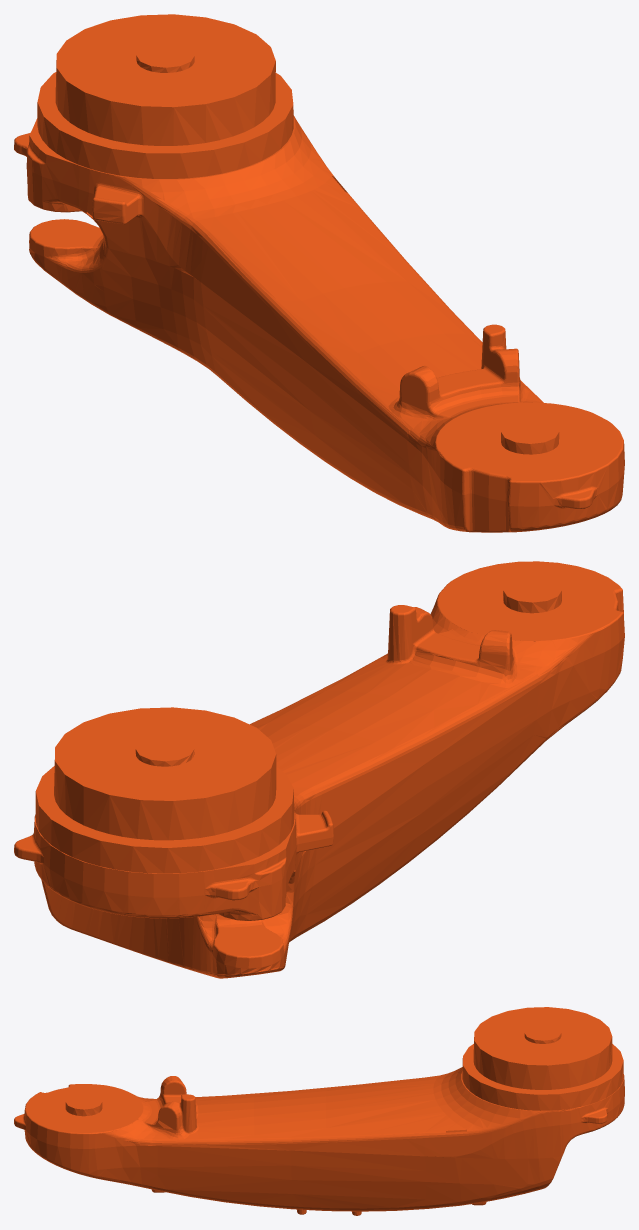
The picture shows the model from 3 angles, top to bottom: view 1: azimuth 30°, elevation 25°; view 2: azimuth 150°, elevation 25°; view 3: azimuth 270°, elevation 25°; orthographic projection. The views are drawn at different scales.
Parts seen in each view (by area): view 1: skp9E6F (×4); view 2: skp9E6F (×4); view 3: skp9E6F (×4).
Boxes of the visible parts, box(x1,y1,x2,y2) form: skp9E6F (×4): box(14, 14, 624, 532); skp9E6F (×4): box(14, 561, 624, 978); skp9E6F (×4): box(14, 1007, 624, 1215).
Bounding box in the file's own units: 18.78 × 65.52 × 19.37.
